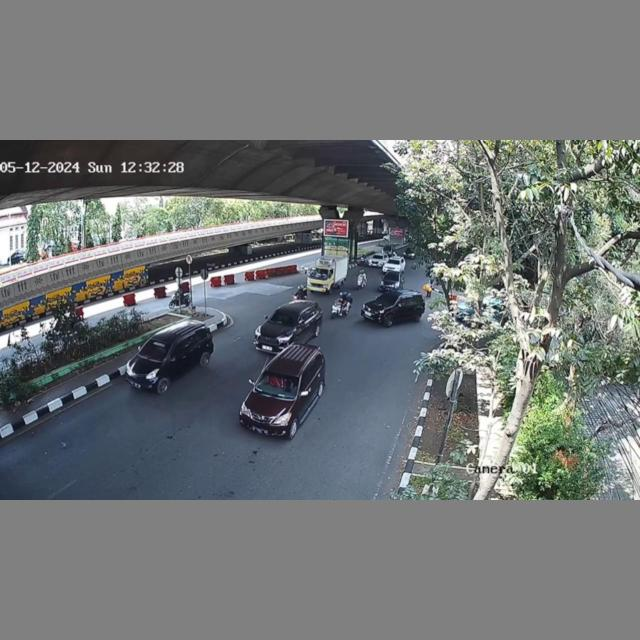windshield: (255, 371, 299, 401), (136, 339, 172, 362), (268, 308, 300, 328)
